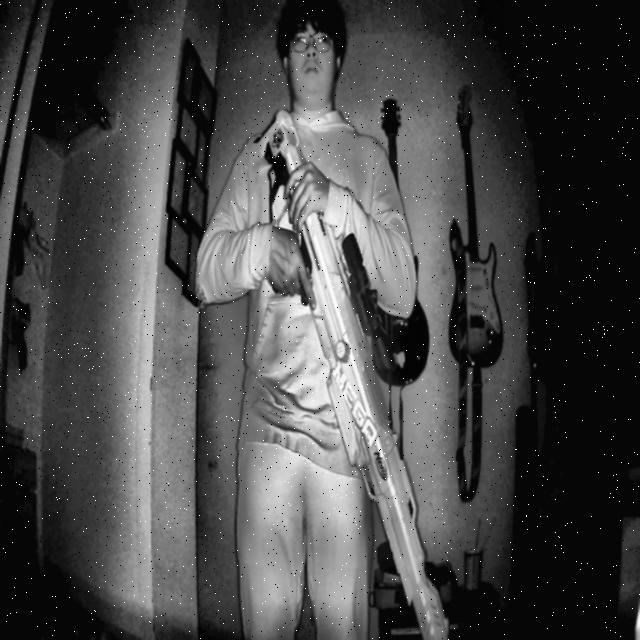Nerf_Blaster: (242, 85, 461, 640)
